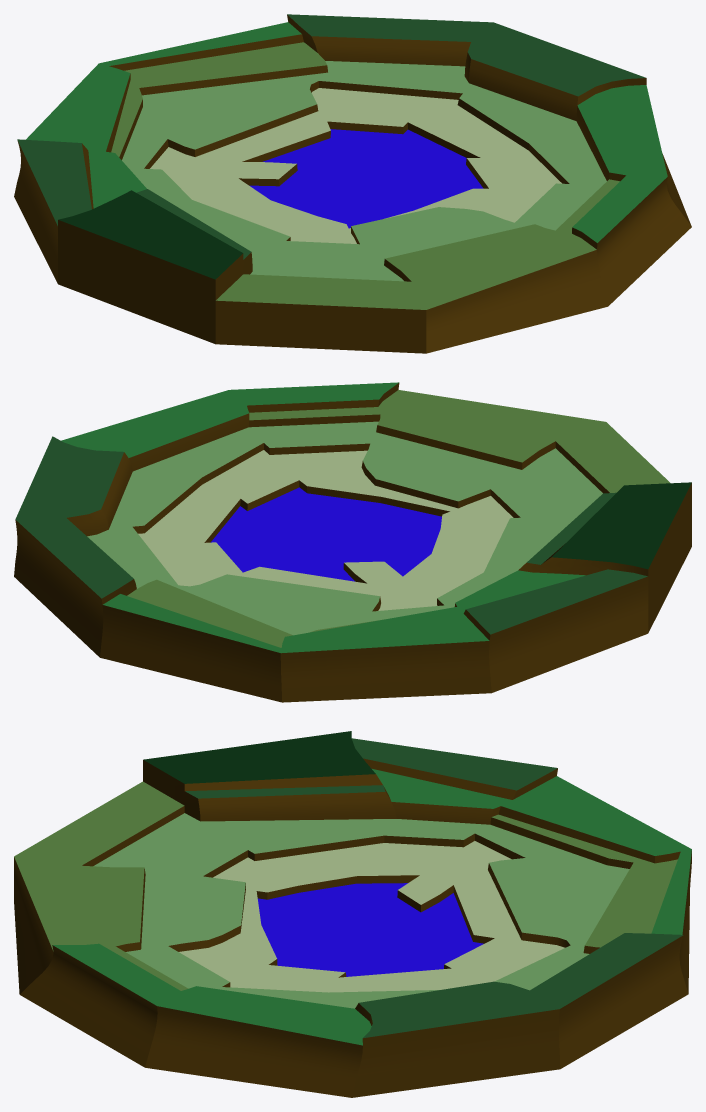
The model's file is board-tim.fbx.
3 views of the same model, one above another, from view 1: azimuth 30°, elevation 25°; view 2: azimuth 150°, elevation 25°; view 3: azimuth 270°, elevation 25° (orthographic). The views are drawn at different scales.
Visible parts, largest first — view 1: pCylinder1; view 2: pCylinder1; view 3: pCylinder1.
Part boxes in pixels (<box>): pCylinder1: <box>14,14,691,353</box>; pCylinder1: <box>14,382,691,702</box>; pCylinder1: <box>14,731,691,1097</box>.
Size of the model in its own units: 17.72 by 1.84 by 16.92.
